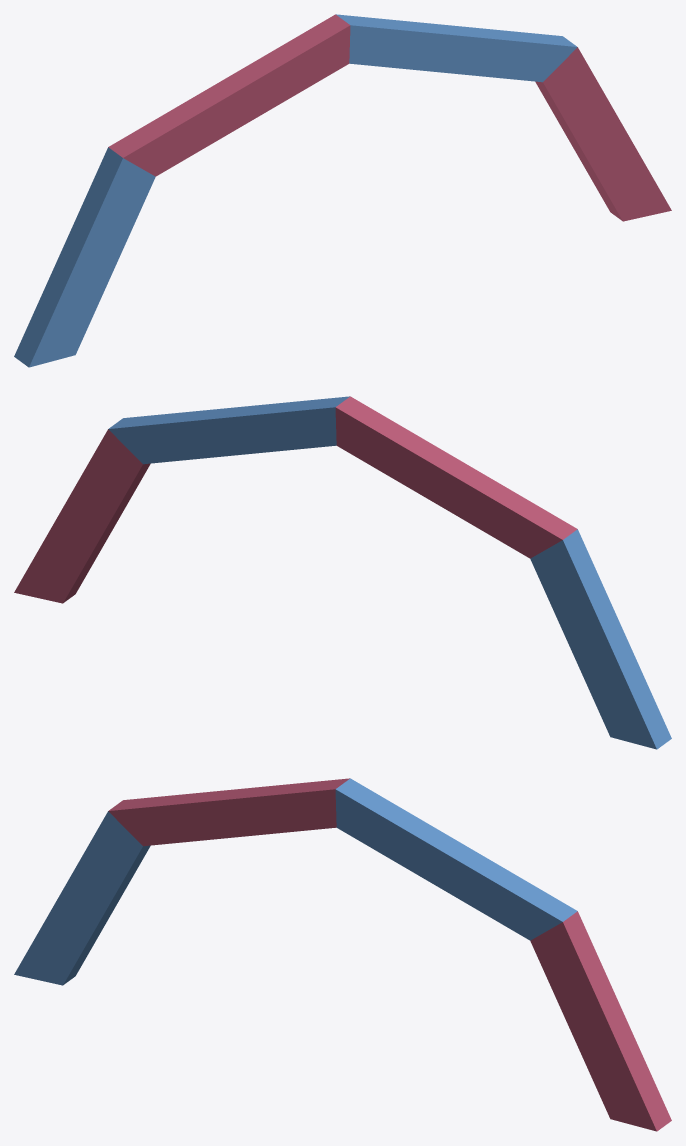
The model's file is ArcoMeta.fbx.
3 renders of one model, top to bottom at view 1: azimuth 30°, elevation 25°; view 2: azimuth 150°, elevation 25°; view 3: azimuth 330°, elevation 25°, orthographic.
Visible parts, largest first — view 1: pCylinder1; view 2: pCylinder1; view 3: pCylinder1.
Part boxes in pixels (x1,y1,x2,y2): pCylinder1: [14, 14, 671, 367]; pCylinder1: [14, 396, 671, 749]; pCylinder1: [14, 778, 671, 1131].
Bounding box in the file's own units: 23.4 × 9.18 × 0.9414.
